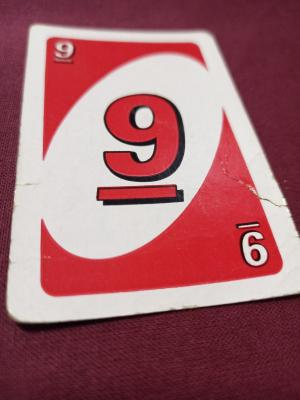num_9: (90, 86, 192, 214), (225, 214, 271, 272), (45, 36, 86, 70)
